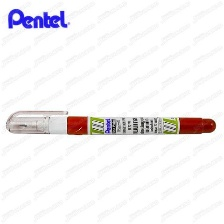correction_fluid: (2, 105, 218, 140)
